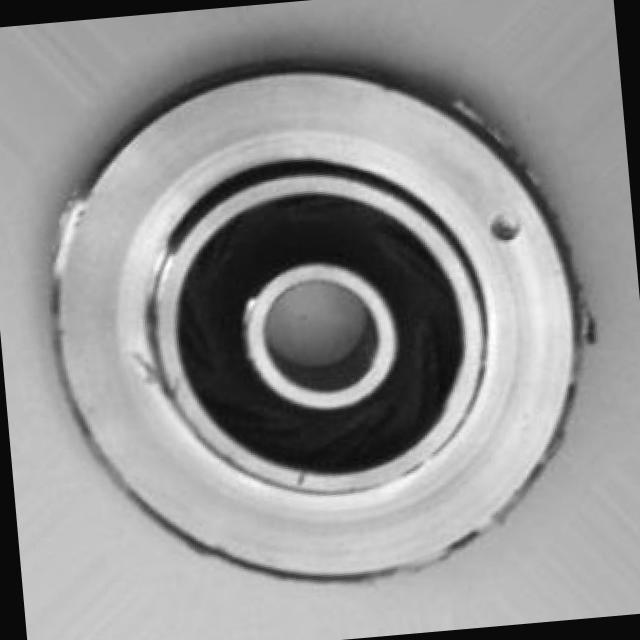Defect: (488, 210, 522, 245)
